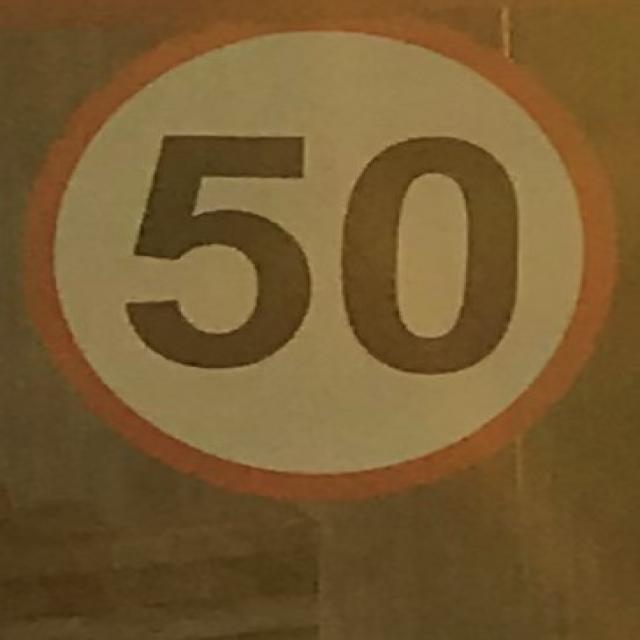Limite-50: (15, 1, 623, 506)
